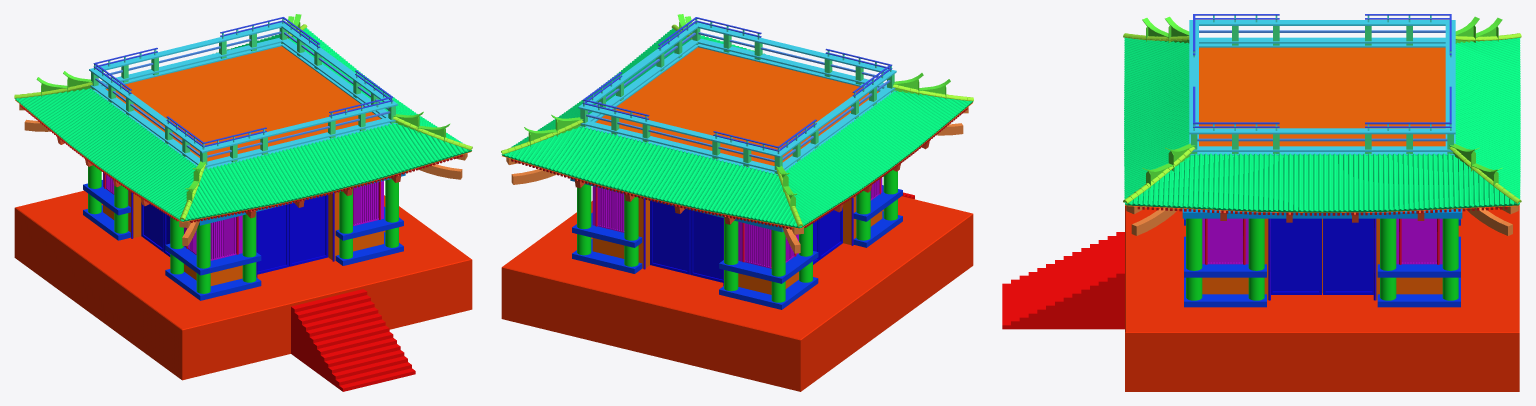
File: PagodaBottom.FBX
3 views of the same model, side by side, from view 1: azimuth 30°, elevation 25°; view 2: azimuth 150°, elevation 25°; view 3: azimuth 270°, elevation 25° (orthographic). The views are drawn at different scales.
Parts seen in each view (by area): view 1: Platform, Base, Plane023, Plane022, StraightStair001, Box045, Beams_Bottom, Beams_Mid, Box044, Window_Slats01, Plane024, Fence_Segment03 (+22 smaller); view 2: Platform, Base, Plane021, Plane022, Entrance 001, Beams_Bottom, Beams_Mid, Box044, Window_Slats04, Window_Slats03, Plane024, Fence_Segment047 (+21 smaller); view 3: Platform, Base, Plane024, StraightStair001, Plane021, Plane023, Box046, Box044, Beams_Bottom, Beams_Mid, Window_Slats03, Window_Slats02 (+18 smaller).
Boxes of the visible parts, x1=… form: Platform: x1=14, y1=190, x2=472, y2=380; Base: x1=15, y1=46, x2=471, y2=285; Plane023: x1=182, y1=123, x2=471, y2=221; Plane022: x1=15, y1=88, x2=196, y2=221; StraightStair001: x1=291, y1=289, x2=415, y2=391; Box045: x1=289, y1=195, x2=328, y2=266; Beams_Bottom: x1=83, y1=205, x2=403, y2=300; Beams_Mid: x1=83, y1=180, x2=403, y2=275; Box044: x1=257, y1=204, x2=289, y2=274; Window_Slats01: x1=184, y1=215, x2=242, y2=260; Plane024: x1=289, y1=28, x2=462, y2=143; Fence_Segment03: x1=198, y1=103, x2=390, y2=153; Platform: x1=501, y1=196, x2=973, y2=391; Base: x1=502, y1=47, x2=972, y2=294; Plane021: x1=502, y1=126, x2=800, y2=228; Plane022: x1=785, y1=91, x2=972, y2=227; Entrance 001: x1=650, y1=200, x2=690, y2=274; Beams_Bottom: x1=572, y1=211, x2=902, y2=309; Beams_Mid: x1=572, y1=185, x2=902, y2=283; Box044: x1=690, y1=210, x2=723, y2=282; Window_Slats04: x1=738, y1=221, x2=798, y2=268; Window_Slats03: x1=592, y1=186, x2=624, y2=232; Plane024: x1=511, y1=28, x2=690, y2=147; Fence_Segment047: x1=578, y1=104, x2=776, y2=155; Platform: x1=1125, y1=206, x2=1519, y2=391; Base: x1=1125, y1=47, x2=1519, y2=300; Plane024: x1=1125, y1=153, x2=1519, y2=212; StraightStair001: x1=1002, y1=232, x2=1124, y2=329; Plane021: x1=1455, y1=37, x2=1520, y2=203; Plane023: x1=1124, y1=37, x2=1189, y2=204; Box046: x1=1271, y1=218, x2=1321, y2=294; Box044: x1=1323, y1=218, x2=1373, y2=294; Beams_Bottom: x1=1184, y1=218, x2=1460, y2=307; Beams_Mid: x1=1184, y1=236, x2=1460, y2=277; Window_Slats03: x1=1396, y1=218, x2=1442, y2=264; Window_Slats02: x1=1202, y1=218, x2=1248, y2=264.
Bounding box in the file's own units: 477 × 317 × 622.
